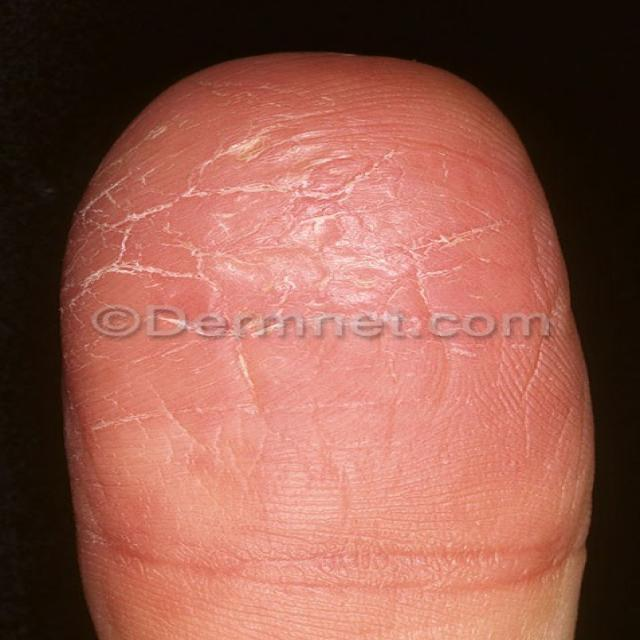Eczema: (67, 107, 505, 362)
